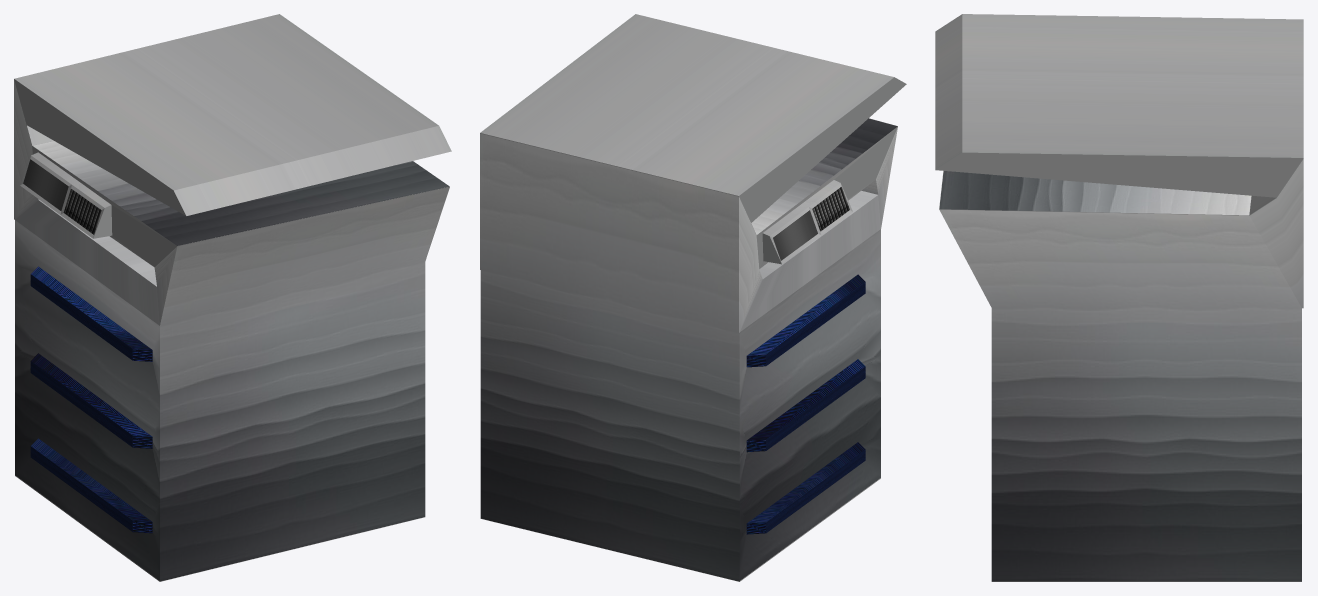
The model's file is printerProp.fbx.
The picture shows the model from 3 angles, left to right: view 1: azimuth 30°, elevation 25°; view 2: azimuth 150°, elevation 25°; view 3: azimuth 270°, elevation 25°; orthographic projection. The views are drawn at different scales.
Visible parts, largest first — view 1: Box001; view 2: Box001; view 3: Box001.
Part boxes in pixels (<box>): Box001: <box>14,14,451,581</box>; Box001: <box>480,14,906,581</box>; Box001: <box>935,14,1303,581</box>.
Bounding box in the file's own units: 35.05 × 47.25 × 36.76.
Materials: 3 (3 with a texture image).
